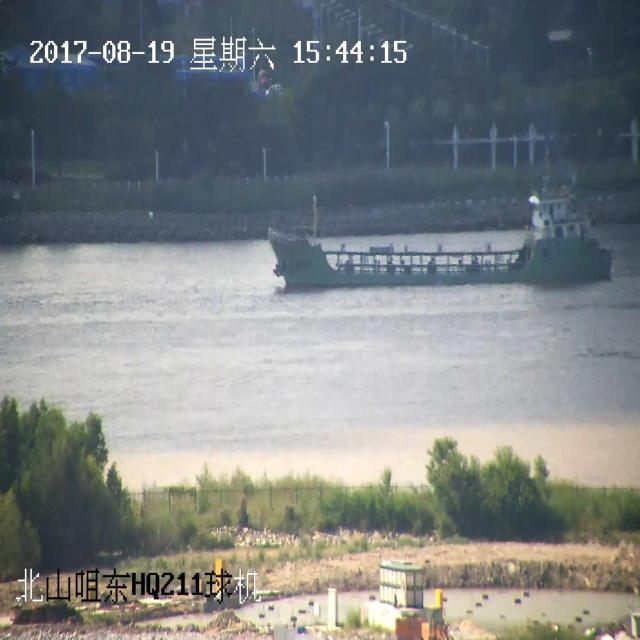houseboat: (257, 174, 622, 292)
